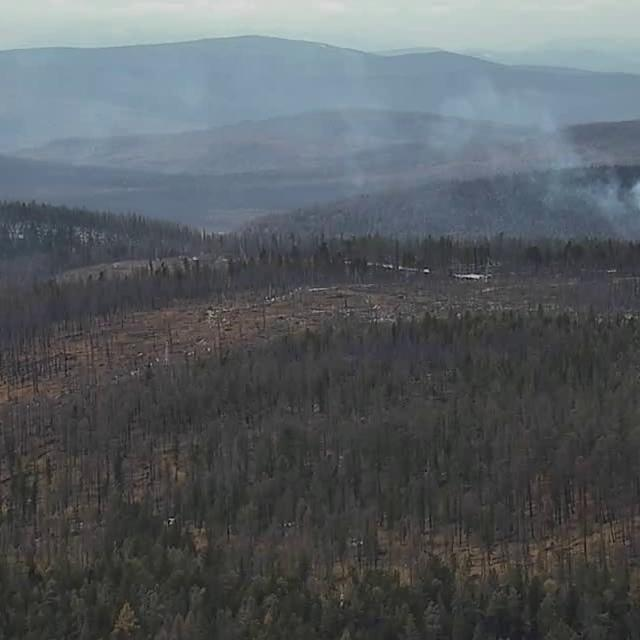Smoke: (368, 76, 639, 273)
